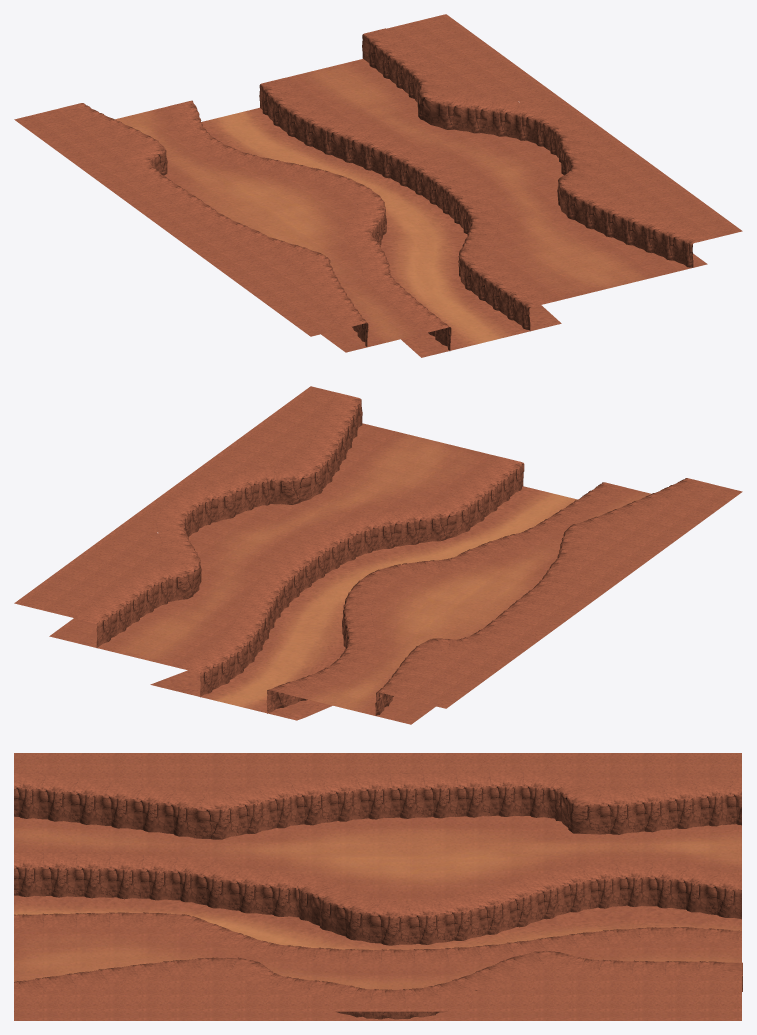
The model's file is Map_1.fbx.
3 renders of one model, top to bottom at view 1: azimuth 30°, elevation 25°; view 2: azimuth 150°, elevation 25°; view 3: azimuth 270°, elevation 25°, orthographic. The views are drawn at different scales.
Parts seen in each view (by area): view 1: Slope, ground_1, ground_2, Path; view 2: Slope, ground_1, ground_2, Path; view 3: Slope, ground_1, ground_2, Path.
Part boxes in pixels (box(x1,y1,x2,y2)): Slope: box(60, 28, 715, 350); ground_1: box(115, 59, 707, 352); ground_2: box(14, 14, 742, 336); Path: box(201, 107, 561, 357); Slope: box(74, 392, 709, 715); ground_1: box(49, 423, 651, 724); ground_2: box(14, 386, 742, 708); Path: box(150, 486, 577, 720); Slope: box(14, 772, 742, 1019); ground_1: box(14, 815, 741, 1020); ground_2: box(14, 753, 741, 1011); Path: box(14, 895, 741, 950).
Size of what is drawn, in the model's own units: 3700 by 400 by 4407.
